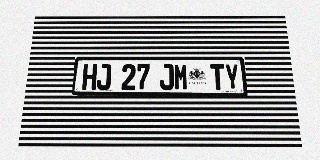2: (121, 64, 136, 90)
7: (136, 64, 150, 90)
H: (82, 64, 97, 90)
J: (96, 64, 111, 90), (160, 64, 174, 90)
M: (174, 64, 188, 90)
T: (210, 64, 225, 90)
Y: (224, 64, 240, 90)
